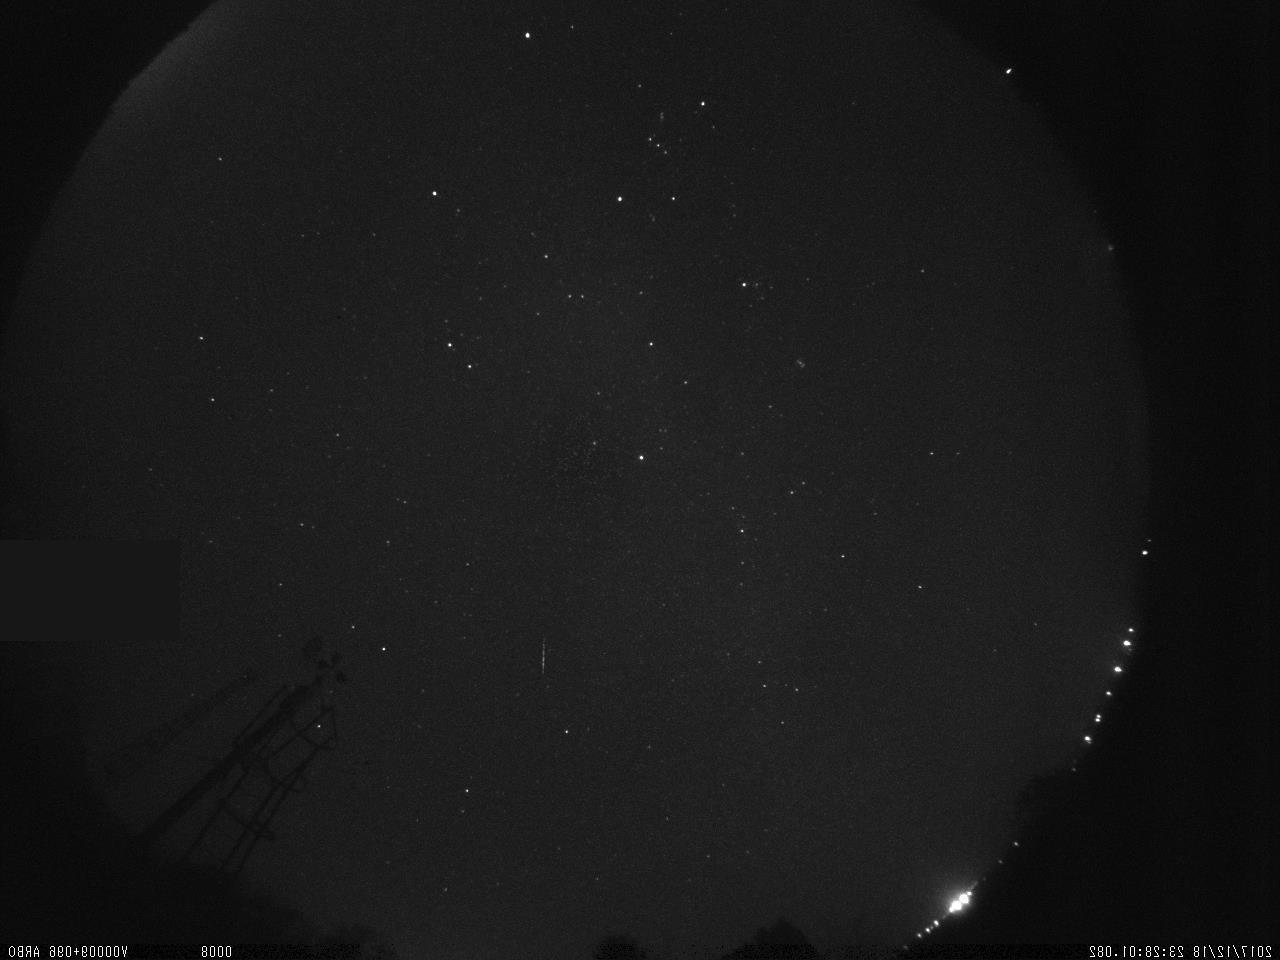meteor: (527, 629, 555, 689)
